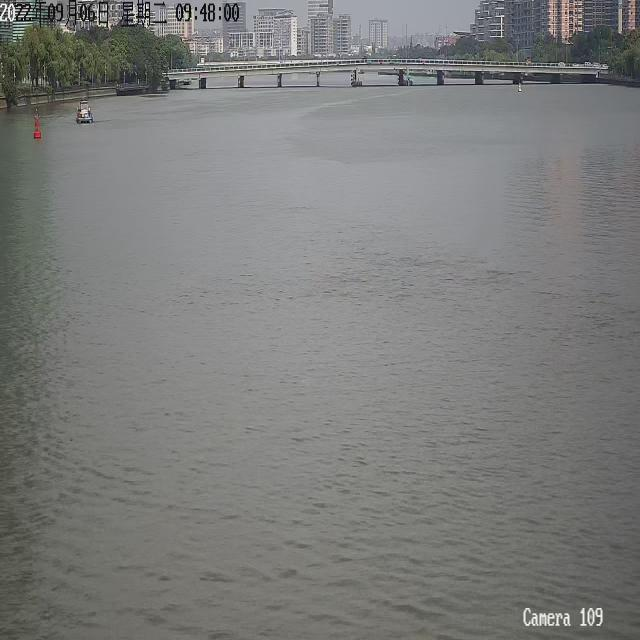ship: (76, 99, 92, 123)
